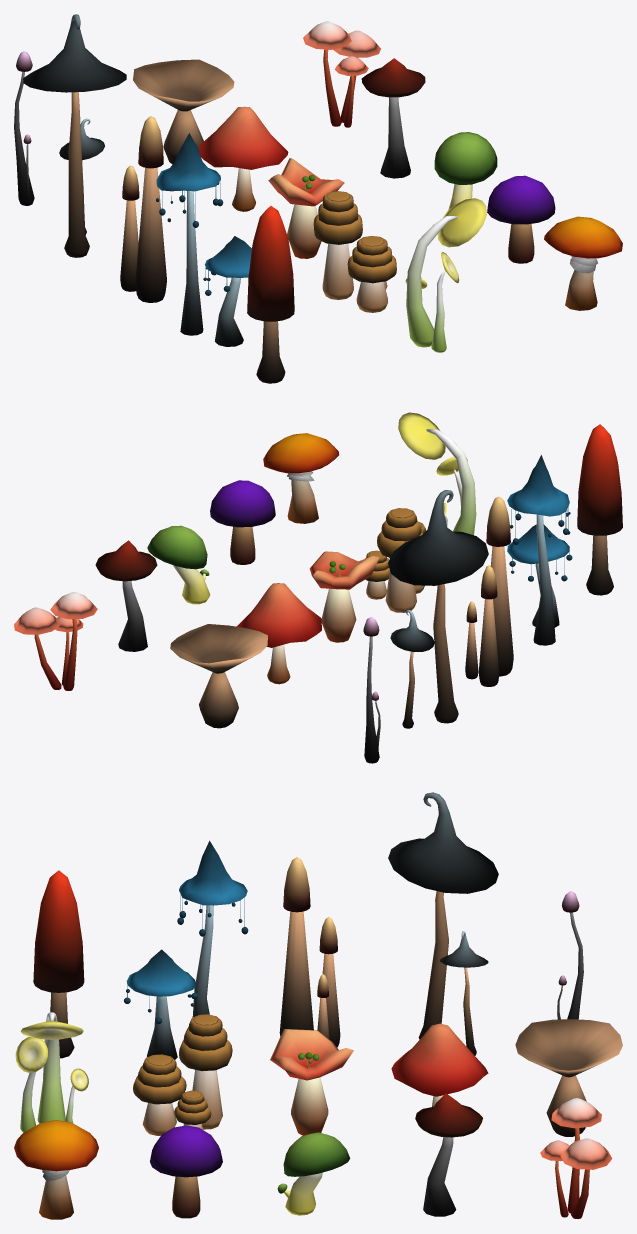
The model's file is low_poly_mushrooms_set.glb.
3 views of the same model, one above another, from view 1: azimuth 30°, elevation 25°; view 2: azimuth 150°, elevation 25°; view 3: azimuth 270°, elevation 25° (orthographic). The views are drawn at different scales.
Parts seen in each view (by area): view 1: Roundcube.002, Roundcube.043, Roundcube.003, Roundcube.001, Roundcube.020, Cylinder.004, Roundcube.005, Roundcube, Roundcube.044, Cylinder.009, Torus.008, Roundcube.022 (+23 smaller); view 2: Roundcube.020, Roundcube.002, Roundcube.003, Roundcube.001, Roundcube.043, Roundcube, Roundcube.044, Cylinder.009, Roundcube.022, Roundcube.005, Cylinder.004, Cone (+23 smaller); view 3: Roundcube.020, Roundcube.002, Roundcube.003, Roundcube.001, Roundcube.044, Roundcube, Cylinder.004, Cone, Roundcube.043, Torus.008, Roundcube.022, Roundcube.005 (+23 smaller).
Part boxes in pixels (<box>): Roundcube.002: <box>247,206,294,321</box>; Roundcube.043: <box>406,198,486,347</box>; Roundcube.003: <box>133,59,234,111</box>; Roundcube.001: <box>199,106,288,169</box>; Roundcube.020: <box>23,14,126,92</box>; Cylinder.004: <box>135,167,166,302</box>; Roundcube.005: <box>434,132,497,184</box>; Roundcube: <box>487,175,555,224</box>; Roundcube.044: <box>544,216,622,258</box>; Cylinder.009: <box>64,92,89,257</box>; Torus.008: <box>313,191,362,244</box>; Roundcube.022: <box>156,133,220,191</box>; Roundcube.020: <box>388,490,488,585</box>; Roundcube.002: <box>577,424,622,535</box>; Roundcube.003: <box>170,624,267,673</box>; Roundcube.001: <box>236,583,321,647</box>; Roundcube.043: <box>398,412,476,535</box>; Roundcube: <box>210,480,275,527</box>; Roundcube.044: <box>263,433,339,473</box>; Cylinder.009: <box>433,584,458,723</box>; Roundcube.022: <box>507,455,569,516</box>; Roundcube.005: <box>147,525,207,569</box>; Cylinder.004: <box>491,546,513,676</box>; Cone: <box>309,551,379,589</box>; Roundcube.020: <box>388,792,498,893</box>; Roundcube.002: <box>33,870,84,992</box>; Roundcube.003: <box>515,1019,622,1077</box>; Roundcube.001: <box>391,1023,488,1096</box>; Roundcube.044: <box>14,1120,98,1171</box>; Roundcube: <box>150,1125,222,1177</box>; Cylinder.004: <box>279,911,313,1036</box>; Cone: <box>270,1029,353,1080</box>; Roundcube.043: <box>20,1012,83,1123</box>; Torus.008: <box>179,1014,232,1071</box>; Roundcube.022: <box>179,840,247,905</box>; Roundcube.005: <box>283,1132,350,1176</box>.
Size of the model in its own units: 39.85 by 21.81 by 47.86.
30 materials, 30 textured.
